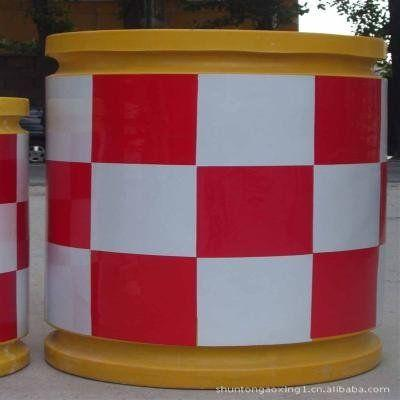sign: (34, 21, 395, 391)
